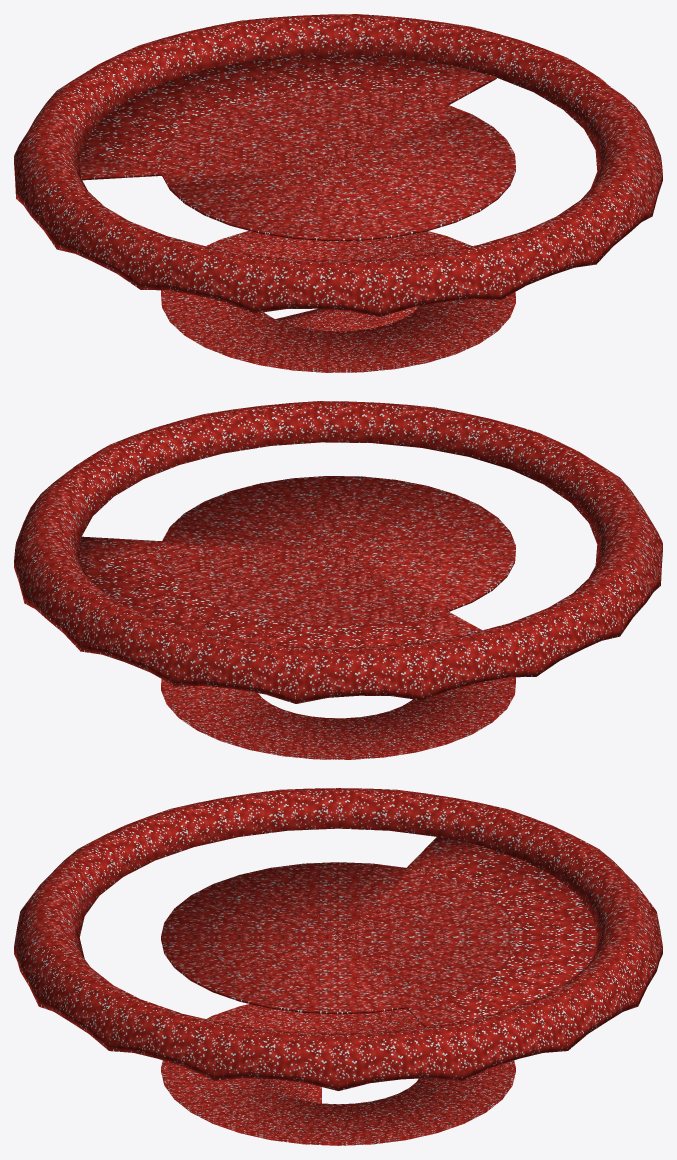
File: floor2nd3rd.glb
3 views of the same model, one above another, from view 1: azimuth 30°, elevation 25°; view 2: azimuth 150°, elevation 25°; view 3: azimuth 270°, elevation 25° (orthographic).
Visible parts, largest first — view 1: Floor2nd3nd; view 2: Floor2nd3nd; view 3: Floor2nd3nd.
Boxes of the visible parts, bbox=[...] form: Floor2nd3nd: bbox=[14, 14, 662, 372]; Floor2nd3nd: bbox=[14, 401, 662, 759]; Floor2nd3nd: bbox=[14, 788, 662, 1145].
Size of what is drawn, in the model's own units: 41.96 by 11.24 by 41.96.
1 material, 1 textured.
